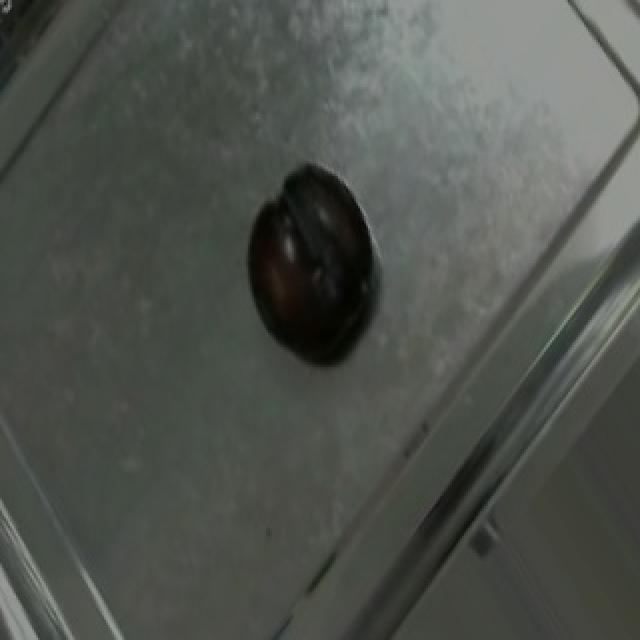Fruit: (222, 156, 384, 370)
